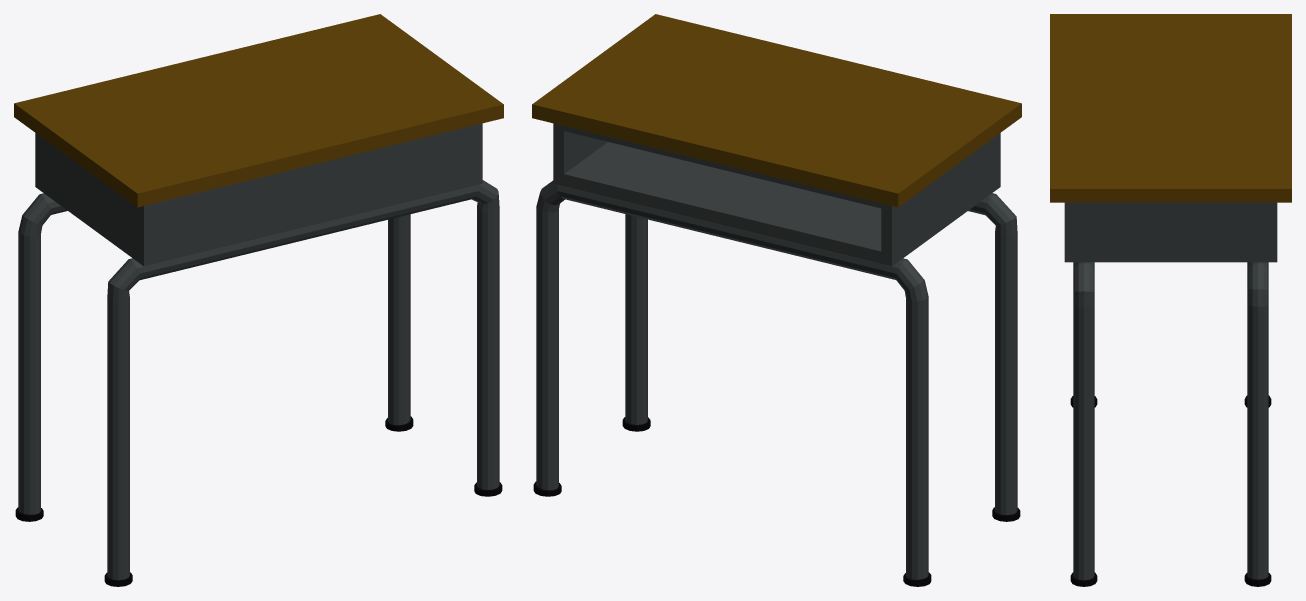
The model's file is schoolDesk.fbx.
3 renders of one model, left to right at view 1: azimuth 30°, elevation 25°; view 2: azimuth 150°, elevation 25°; view 3: azimuth 270°, elevation 25°, orthographic. The views are drawn at different scales.
Visible parts, largest first — view 1: schoolDesk; view 2: schoolDesk; view 3: schoolDesk.
Boxes of the visible parts, x1,y1,x2,y2 form: schoolDesk: (14, 14, 503, 586); schoolDesk: (532, 14, 1021, 586); schoolDesk: (1050, 14, 1291, 586).
Size of the model in its own units: 73.32 by 71.03 by 39.76.
